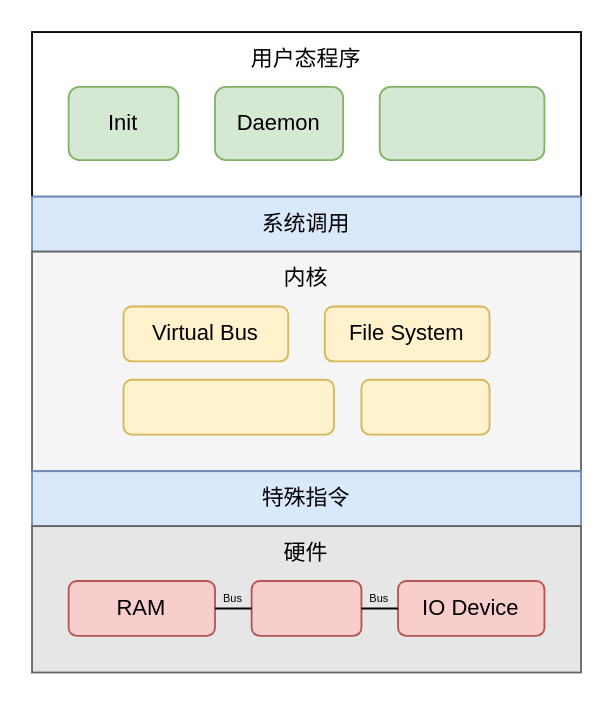
The diagram is 613 pixels wide and 705 high, and some of its shapes have lost their labels. Each missing label, with the centre of its shape:
"CPU" belongs at point 305,607.
"Memory Manager" belongs at point 228,406.
"Process" belongs at point 425,406.
"User Interface" belongs at point 461,122.
